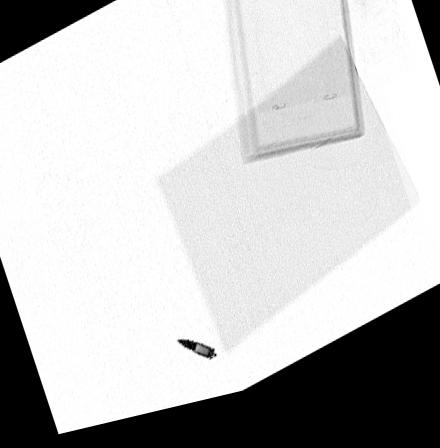Bullet: (177, 346, 214, 368)
